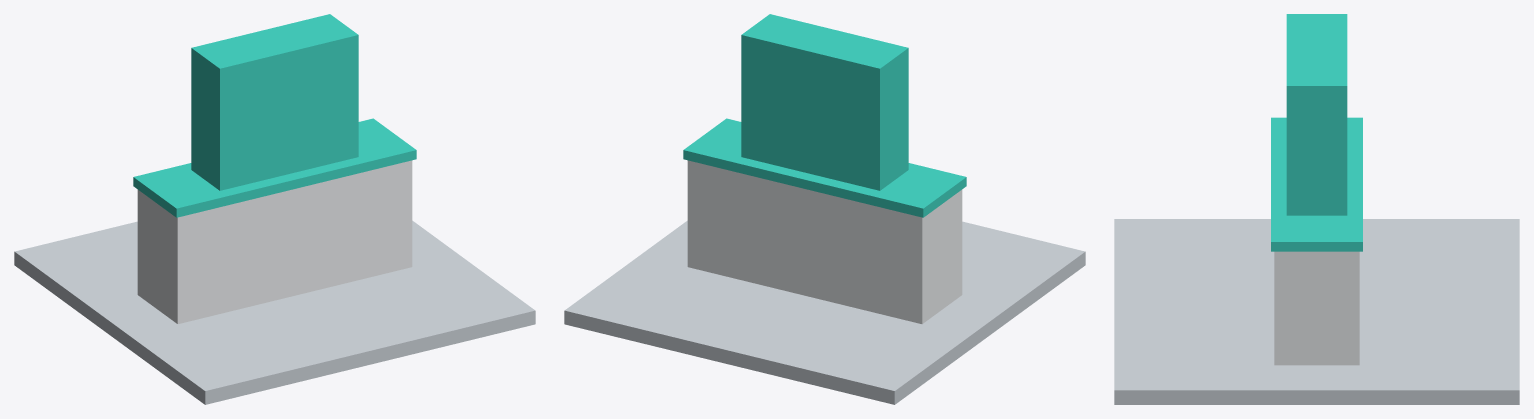
The picture shows the model from 3 angles, left to right: view 1: azimuth 30°, elevation 25°; view 2: azimuth 150°, elevation 25°; view 3: azimuth 270°, elevation 25°; orthographic projection. The views are drawn at different scales.
Visible parts, largest first — view 1: Exhibition Booth Concept; view 2: Exhibition Booth Concept; view 3: Exhibition Booth Concept.
Part boxes in pixels (left/top/right/bottom): Exhibition Booth Concept: left=14, top=14, right=535, bottom=404; Exhibition Booth Concept: left=564, top=14, right=1085, bottom=404; Exhibition Booth Concept: left=1114, top=14, right=1519, bottom=404.
Size of the model in its own units: 3 by 2.2 by 3.
